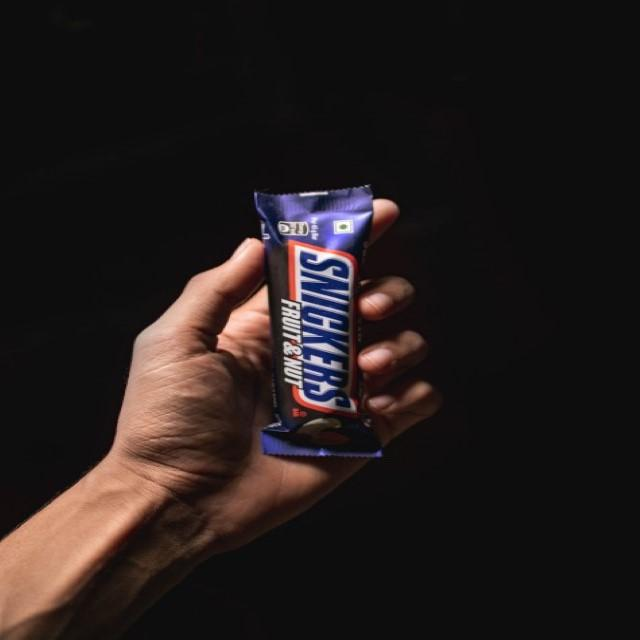snickers_chocolate: (274, 206, 368, 452)
